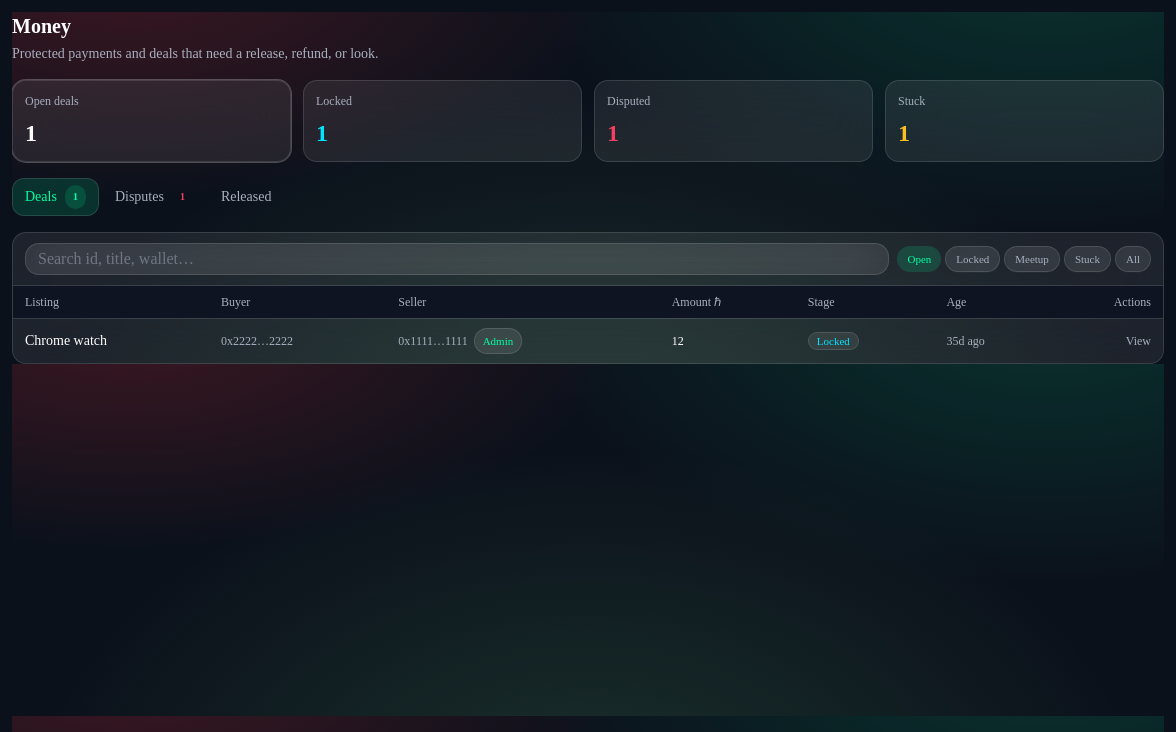
Test: AdminMoney › lets KPI cards filter the deals table
Click the button "Stuck 1": (912, 101) left=885, top=80, right=1164, bottom=162
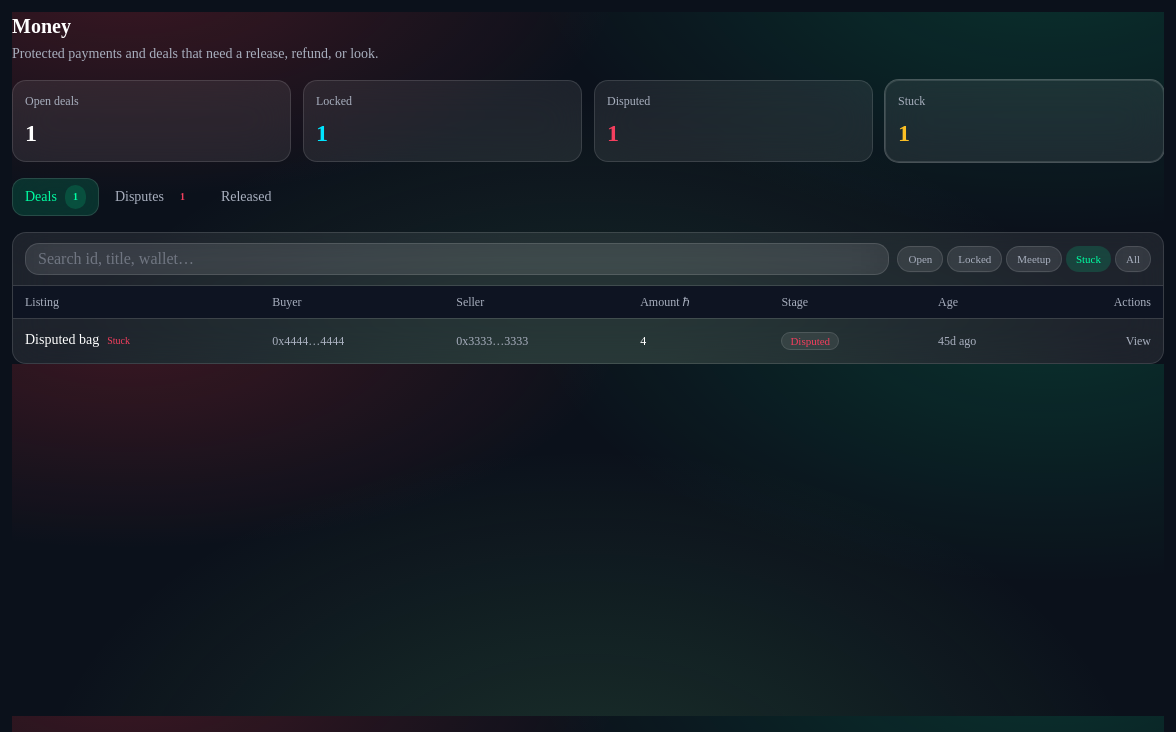
Check: the text "Disputed bag" is shown, box left=25, top=332, right=99, bottom=347
Click the button "Locked 1": (334, 101) left=303, top=80, right=582, bottom=162
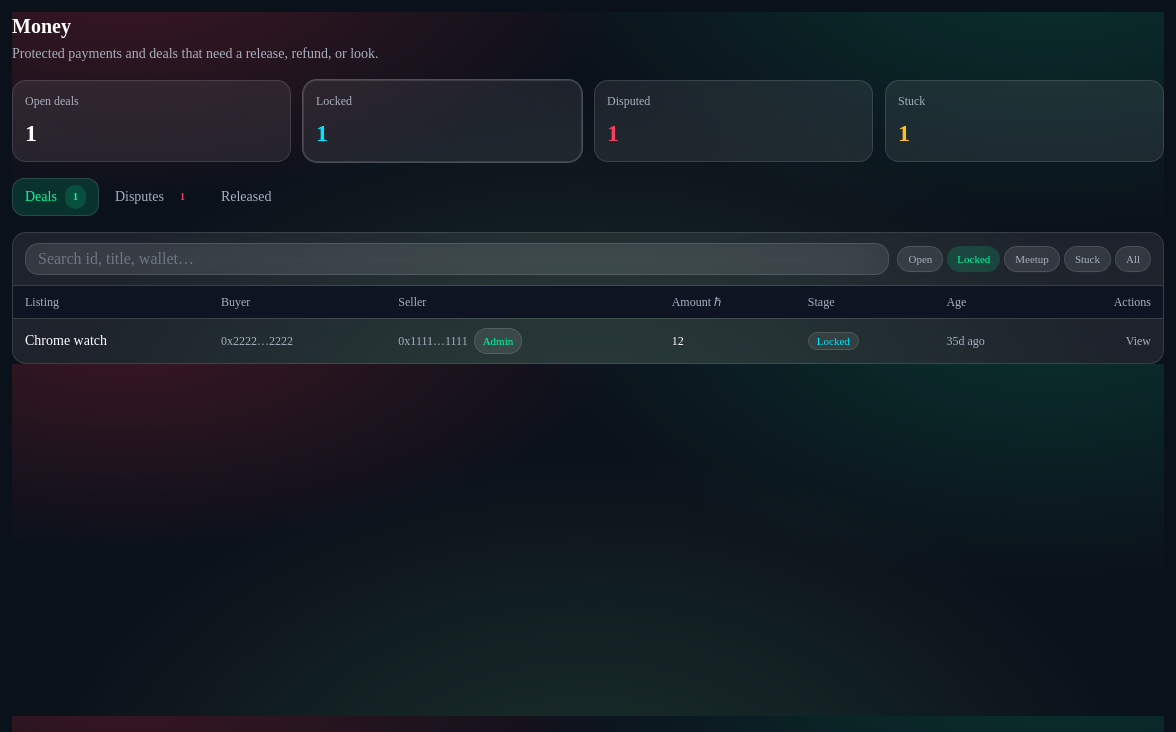
Check: the text "Chrome watch" is shown, box left=13, top=318, right=209, bottom=362
Check: the text "Disputed bag" is gone
